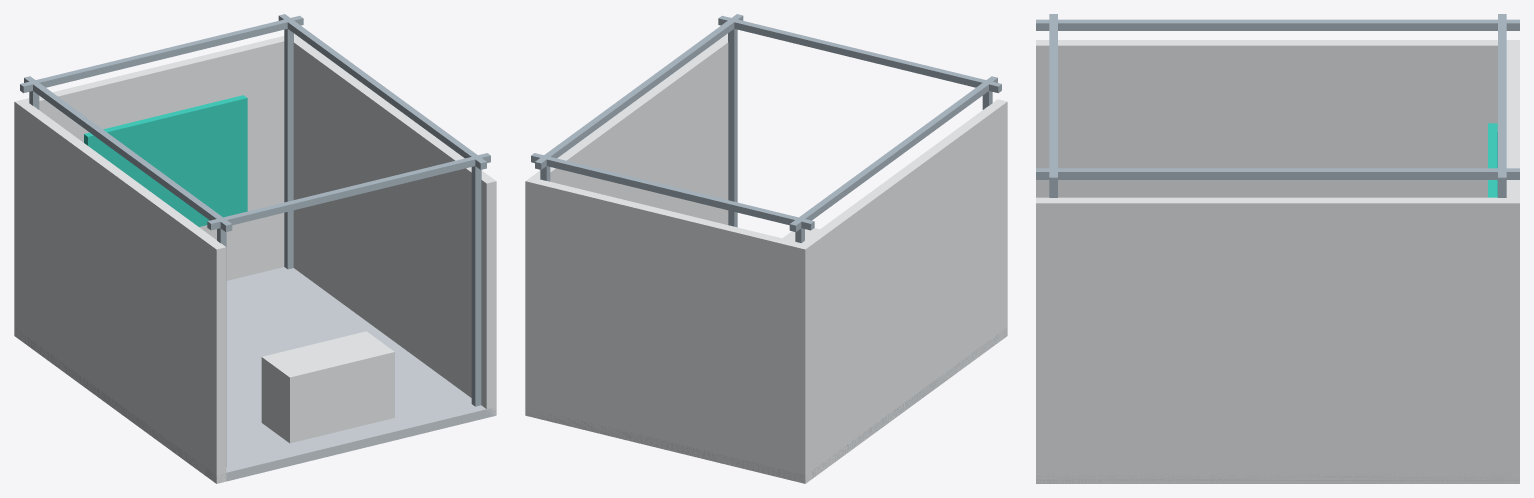
The picture shows the model from 3 angles, left to right: view 1: azimuth 30°, elevation 25°; view 2: azimuth 150°, elevation 25°; view 3: azimuth 270°, elevation 25°; orthographic projection. The views are drawn at different scales.
Parts seen in each view (by area): view 1: Exhibition Booth Concept; view 2: Exhibition Booth Concept; view 3: Exhibition Booth Concept.
Part boxes in pixels (bbox=[...]): Exhibition Booth Concept: bbox=[14, 14, 496, 483]; Exhibition Booth Concept: bbox=[525, 14, 1007, 483]; Exhibition Booth Concept: bbox=[1036, 14, 1519, 483].
Bounding box in the file's own units: 4 × 3.49 × 5.
